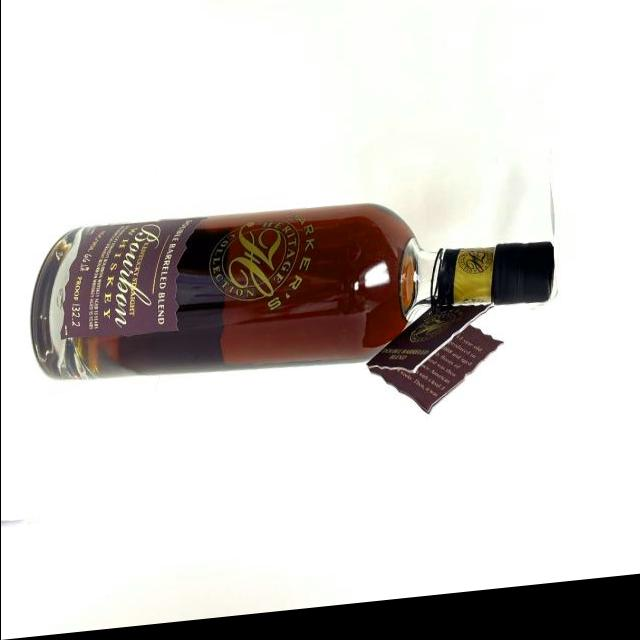PARKERS HERITAGE COLLECTION DOUBLE BARRELED BLEND BOURBON750ML: (24, 181, 558, 461)
